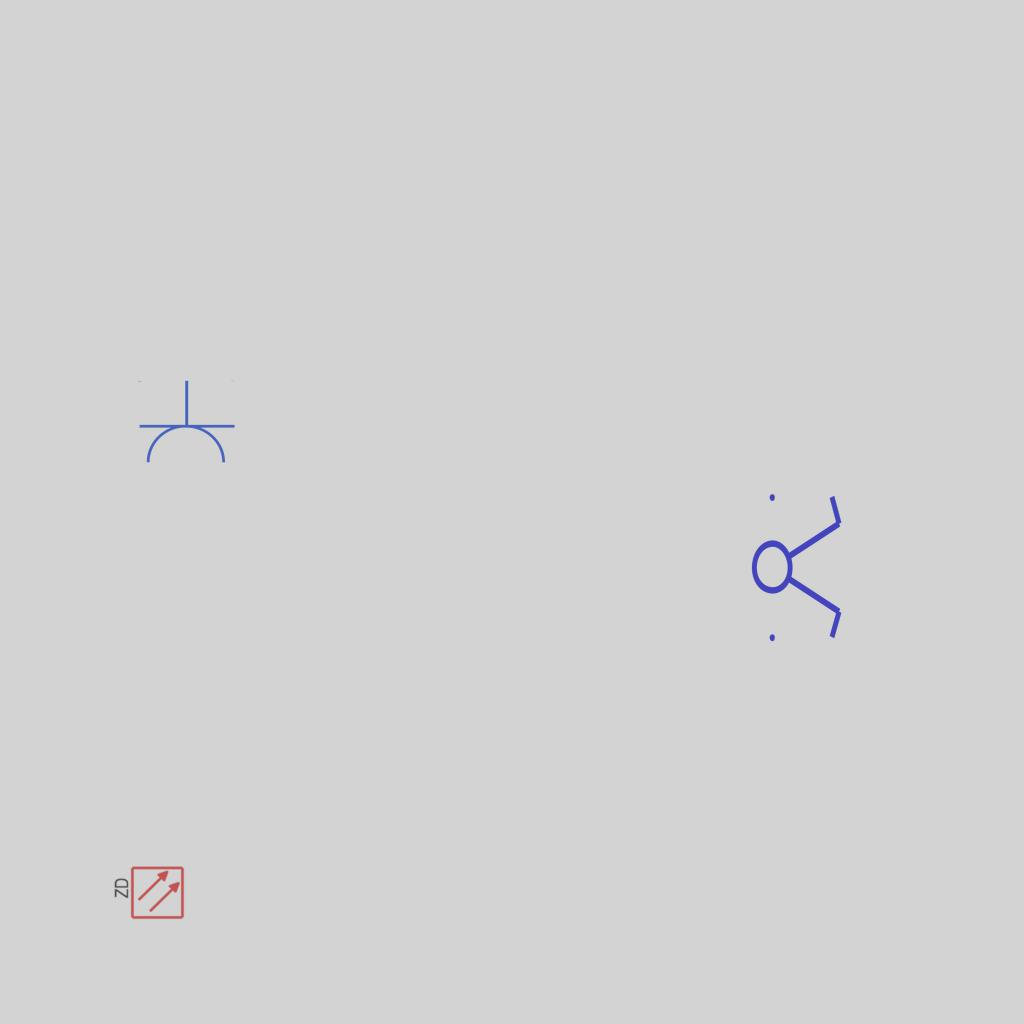Schukosteckdose_einfach: (136, 380, 236, 467)
Serienschalter: (750, 482, 846, 650)
ZD_Melder_in_Zwischendecke_mit_Revisionsoeffnung_mind_40_x_40_cm: (111, 865, 185, 922)
